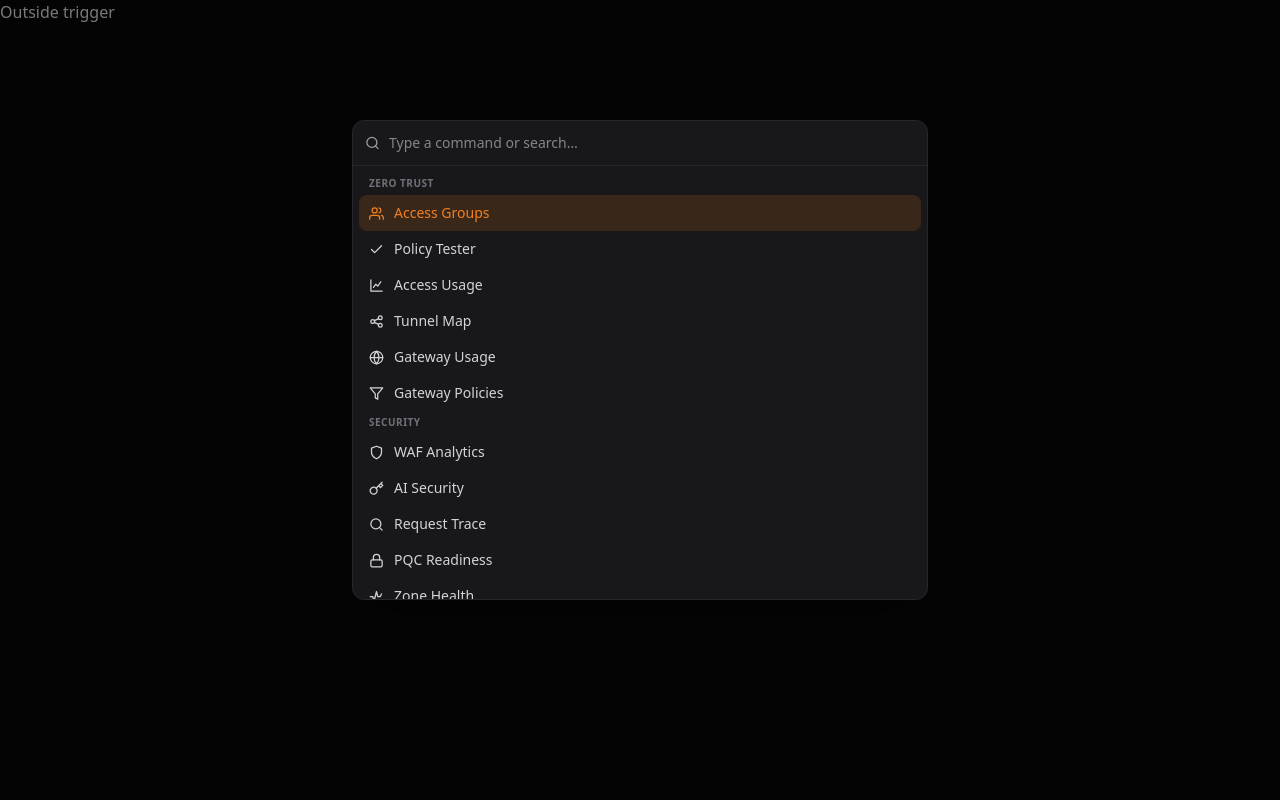
Test: CommandPalette › filters commands by fuzzy/substring match
In the dropdown: (640, 143) [353,121,927,165], type "waf"
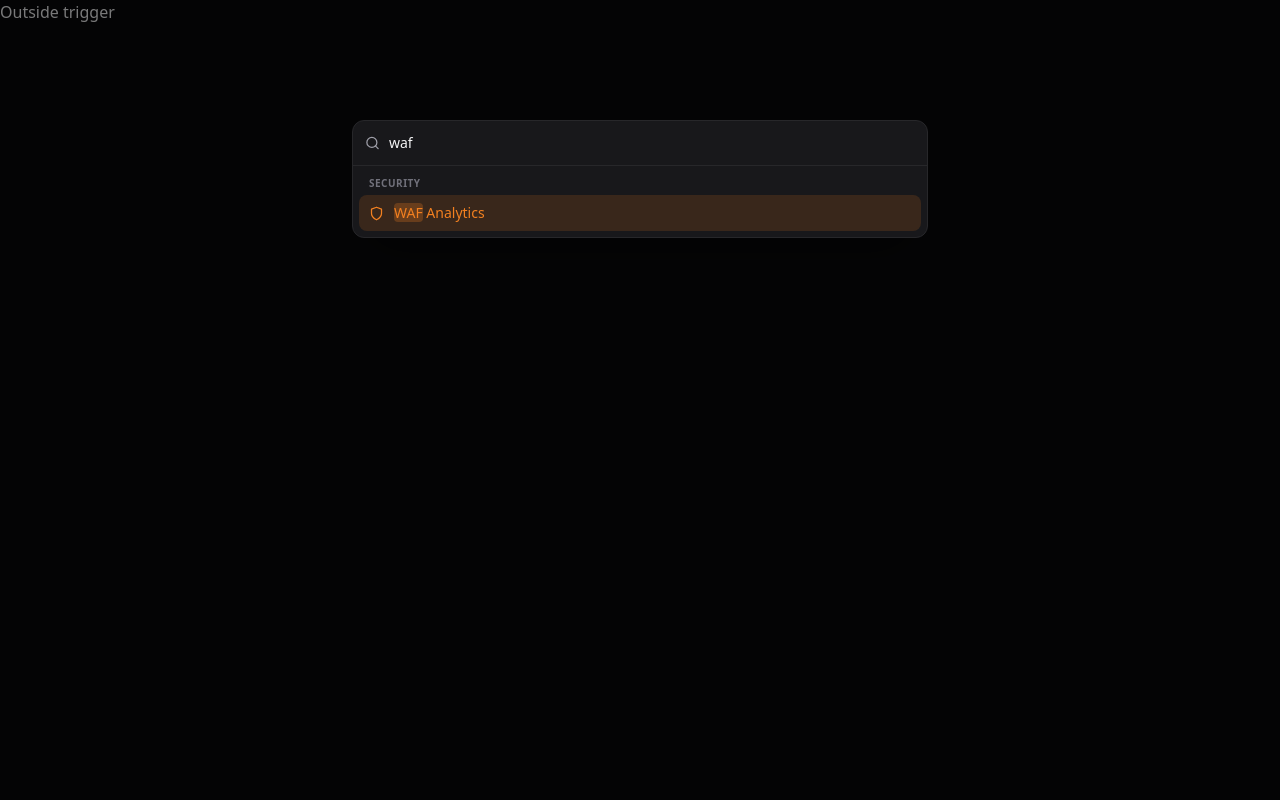
Expected: the option "WAF Analytics" is shown, [359,195,921,231]
Result: the option "Tunnel Map" is gone
